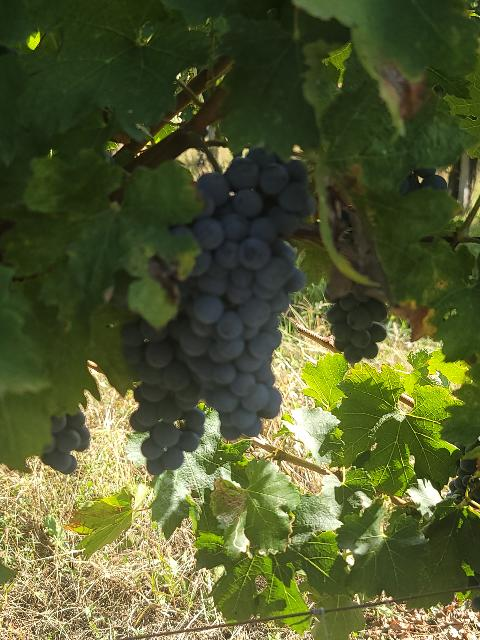grapes: (169, 149, 315, 439), (121, 321, 205, 475)
